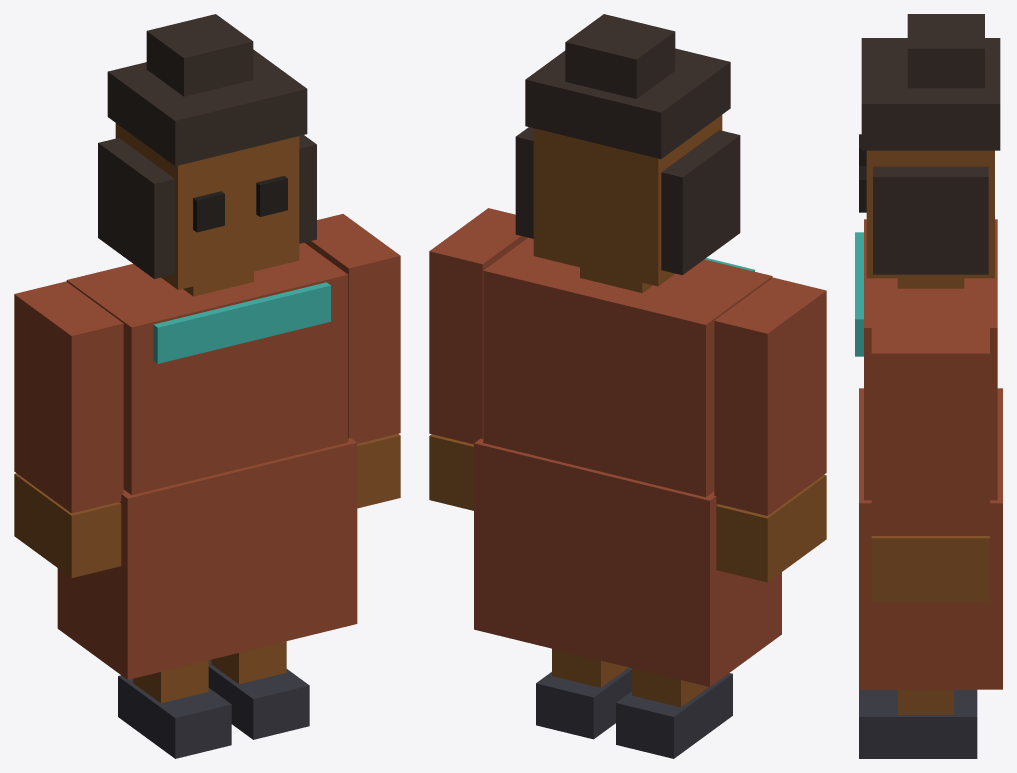
The model's file is people__darkWoman.glb.
3 views of the same model, side by side, from view 1: azimuth 30°, elevation 25°; view 2: azimuth 150°, elevation 25°; view 3: azimuth 270°, elevation 25° (orthographic). The views are drawn at different scales.
Parts seen in each view (by area): view 1: people__darkWoman, rig_armL, rig_armR, rig_legL, rig_legR; view 2: people__darkWoman, rig_armL, rig_armR, rig_legL, rig_legR; view 3: people__darkWoman, rig_armR, rig_legR.
Part boxes in pixels (x1=…): people__darkWoman: x1=57, y1=14, x2=357, y2=679; rig_armL: x1=14, y1=281, x2=123, y2=577; rig_armR: x1=305, y1=214, x2=400, y2=508; rig_legL: x1=118, y1=660, x2=231, y2=758; rig_legR: x1=208, y1=641, x2=309, y2=739; people__darkWoman: x1=474, y1=14, x2=781, y2=686; rig_armL: x1=714, y1=277, x2=826, y2=582; rig_armR: x1=429, y1=208, x2=527, y2=510; rig_legL: x1=616, y1=668, x2=732, y2=758; rig_legR: x1=536, y1=648, x2=631, y2=739; people__darkWoman: x1=855, y1=14, x2=1002, y2=689; rig_armR: x1=871, y1=327, x2=989, y2=602; rig_legR: x1=859, y1=689, x2=977, y2=758.
Size of the model in its own units: 1.52 by 2.98 by 0.575.
